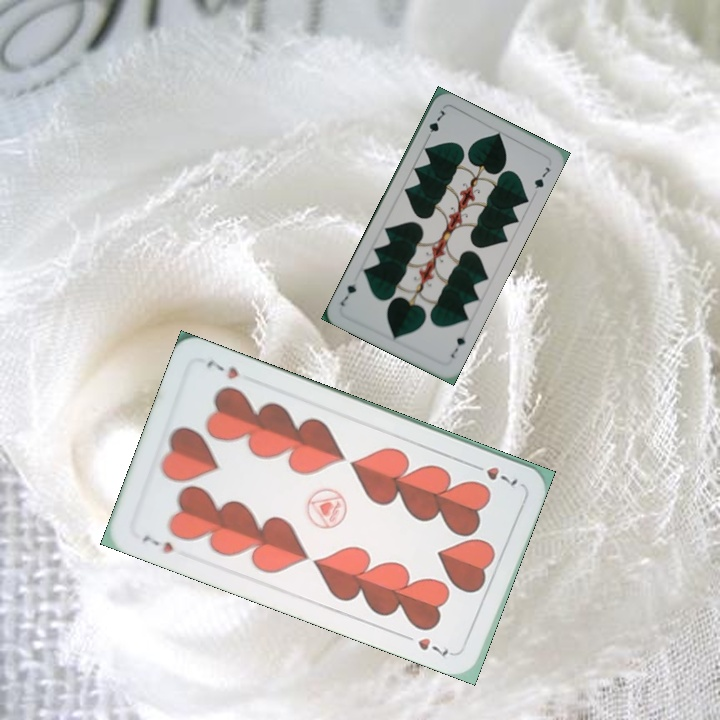G7: (422, 106, 448, 143), (446, 332, 468, 361)
H7: (466, 459, 521, 492), (138, 531, 177, 557)
